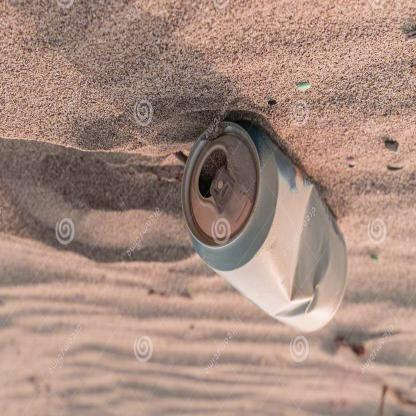Metal: (179, 109, 351, 338)
